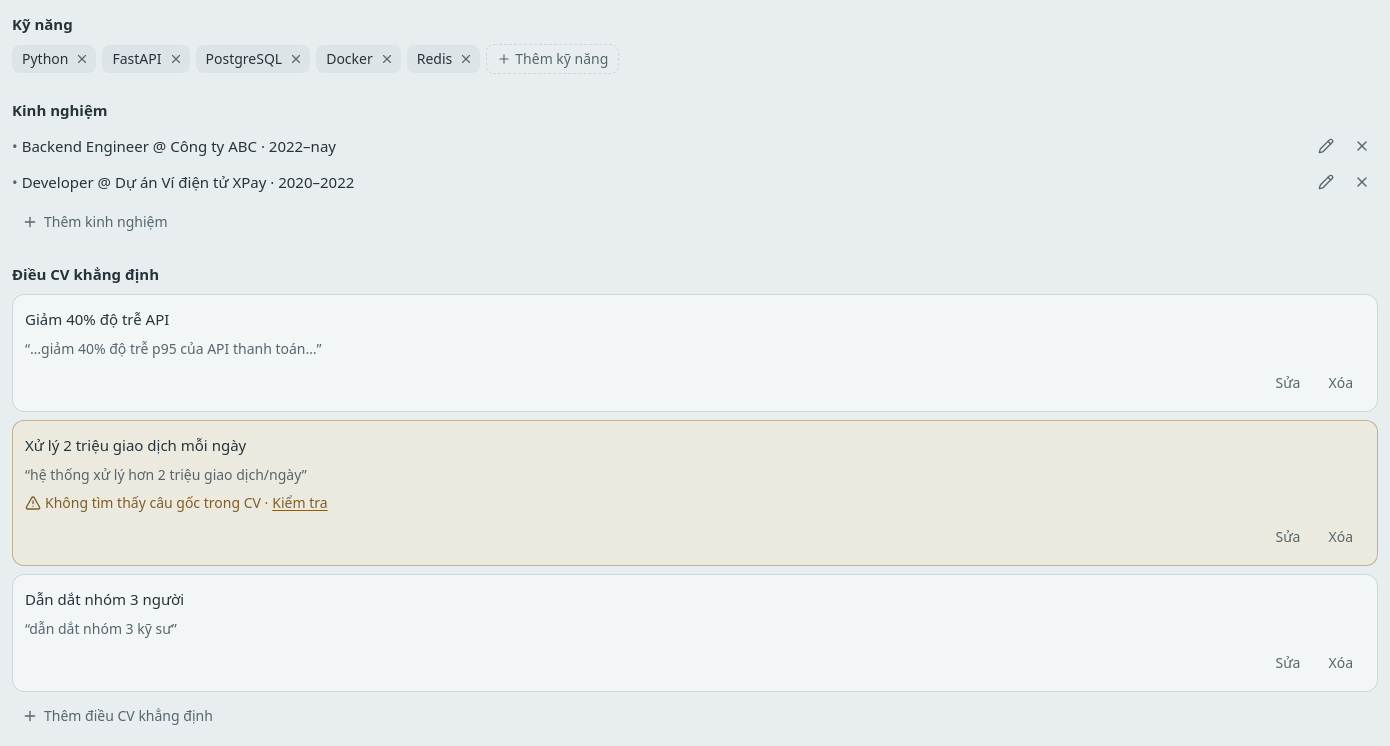
it: ProfileEditor › removes and adds claims; an added claim has no quote
Click the 3rd button "Xóa" at (1341, 663), box [1316,647,1365,679]
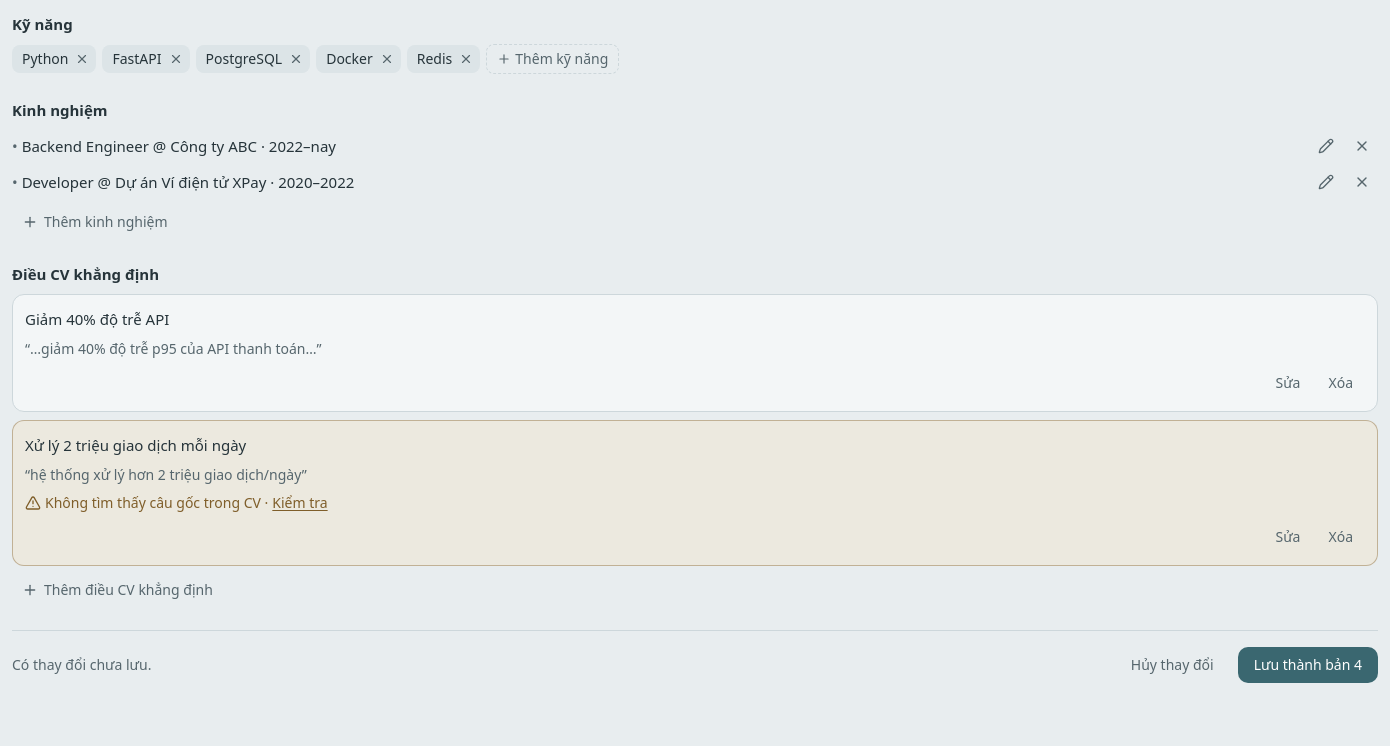
Now the text "Dẫn dắt nhóm 3 người" is gone
Click the button "Thêm điều CV khẳng định" at (117, 590), box [12,574,223,606]
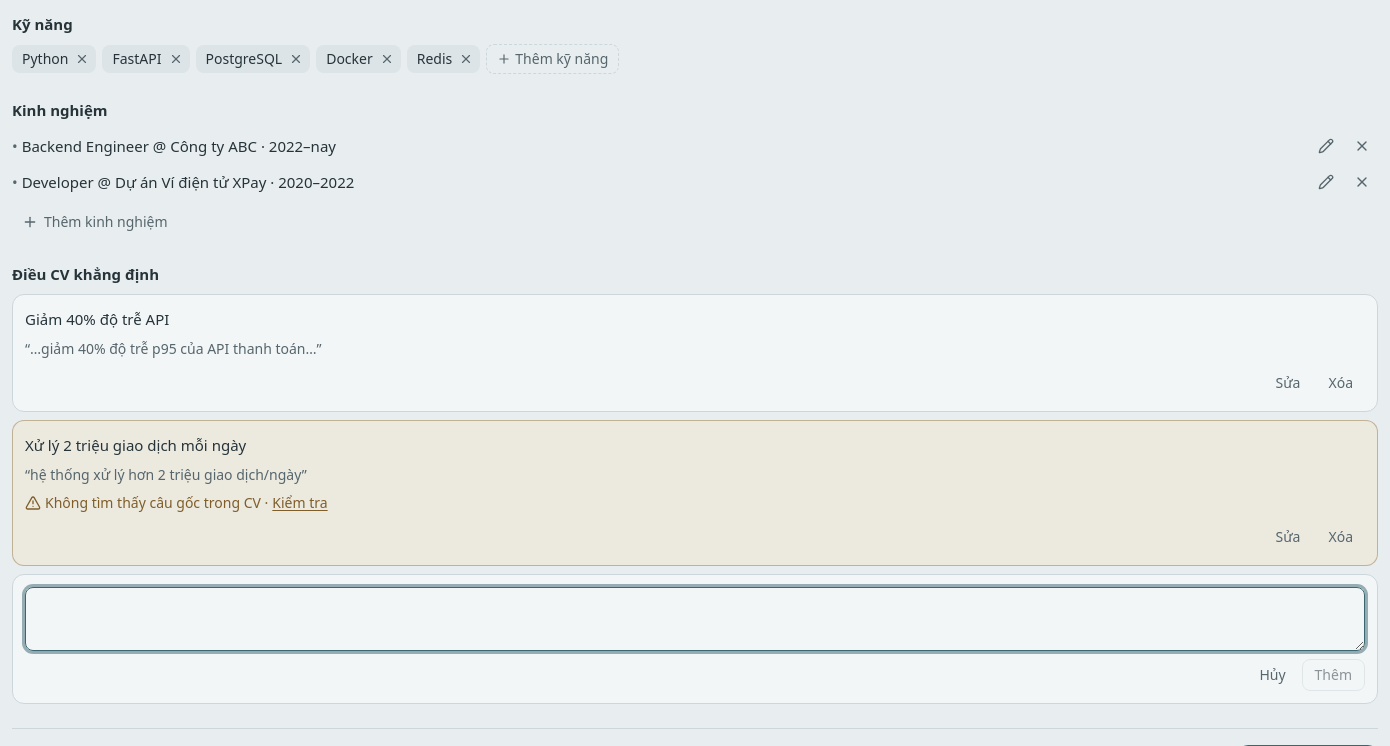
Type "Mentor 2 intern" into the text box named "Điều CV khẳng định" at (695, 619), box [25,587,1365,651]
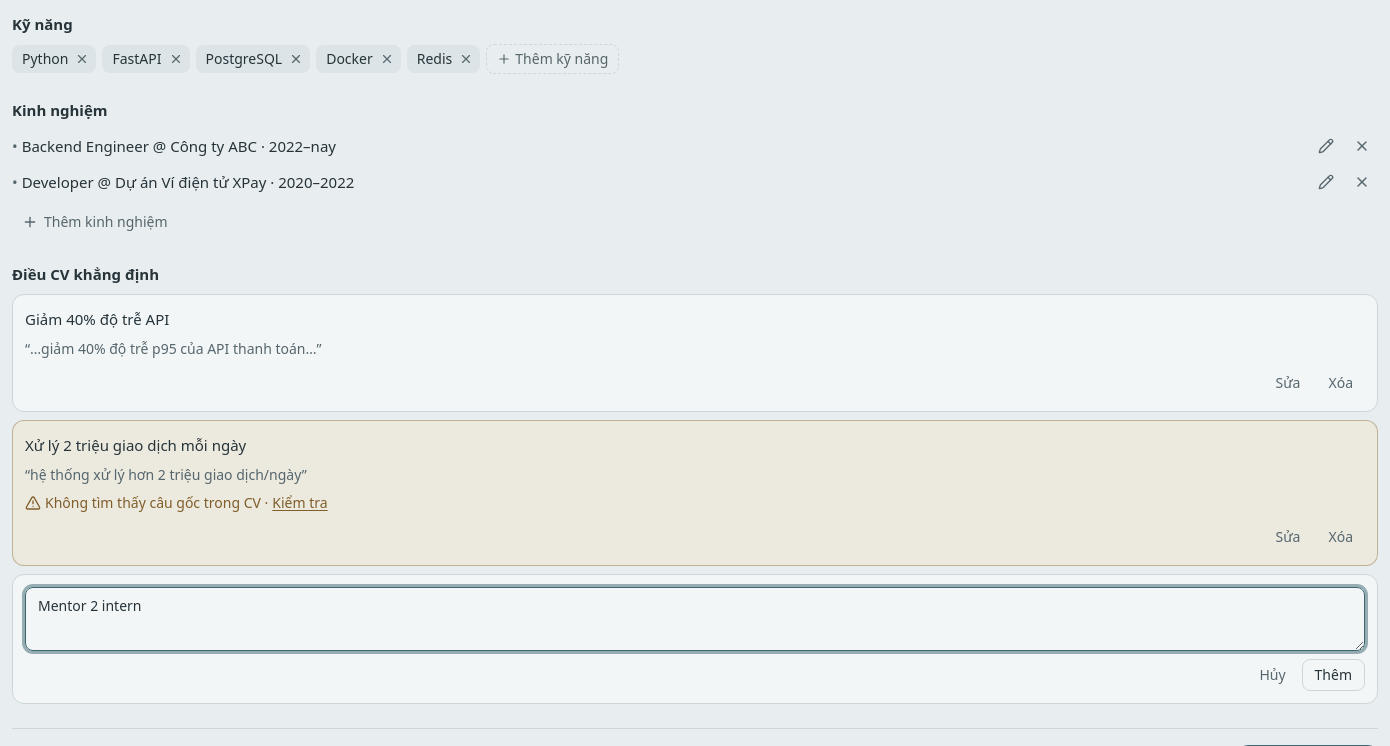
Click the button "Thêm" at (1333, 675), box [1302,659,1365,691]
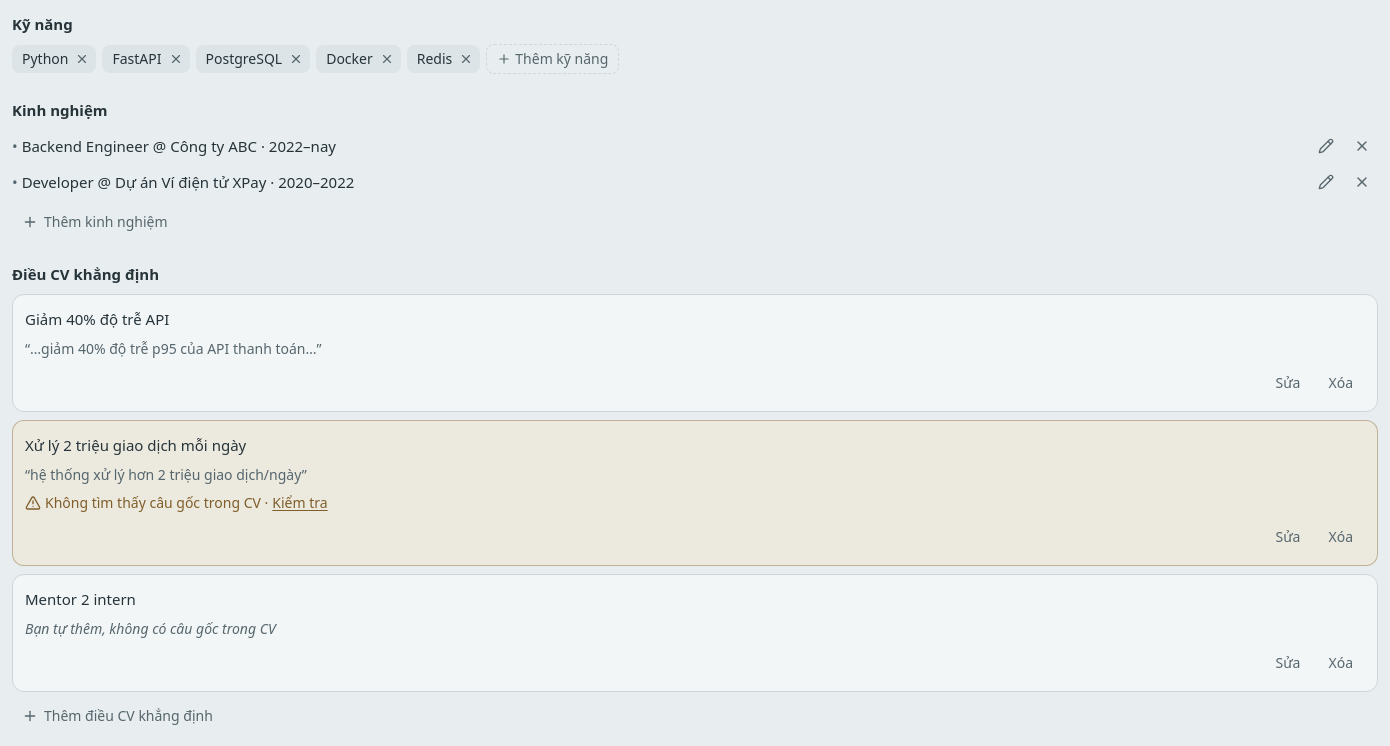
Now the text "Bạn tự thêm, không có câu gốc trong CV" is shown, box [25,619,276,638]
